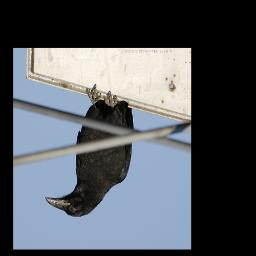Crow: (44, 85, 135, 218)
